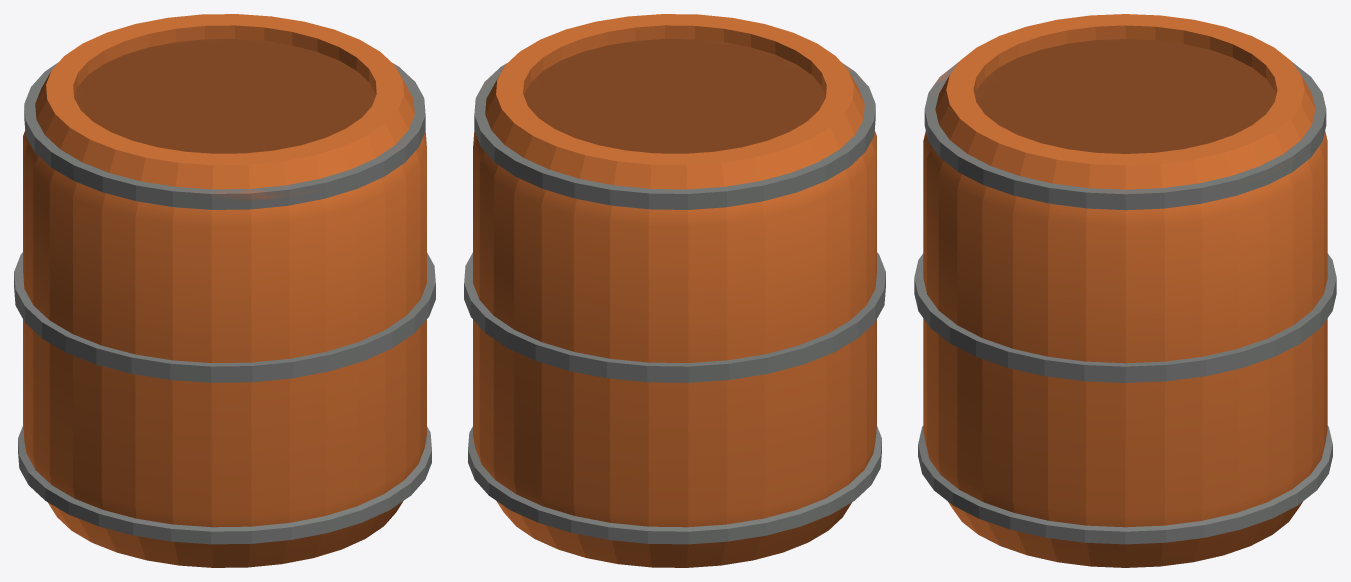
File: barril.fbx
3 views of the same model, side by side, from view 1: azimuth 30°, elevation 25°; view 2: azimuth 150°, elevation 25°; view 3: azimuth 270°, elevation 25° (orthographic).
Visible parts, largest first — view 1: Cylinder; view 2: Cylinder; view 3: Cylinder.
Boxes of the visible parts, box(x1,y1,x2,y2) form: Cylinder: box(14, 14, 435, 567); Cylinder: box(464, 14, 885, 567); Cylinder: box(914, 14, 1336, 567).
Bounding box in the file's own units: 55.9 × 59.95 × 55.9.
1 material, 1 textured.
